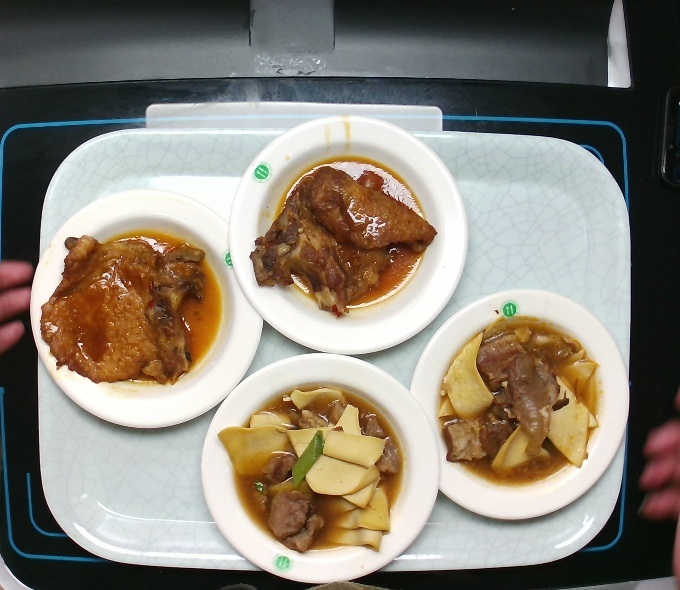wcq-DaPai: (244, 151, 441, 323), (36, 228, 226, 391)
wcq-QianZhangNiuRou: (212, 379, 406, 561), (431, 310, 605, 489)
